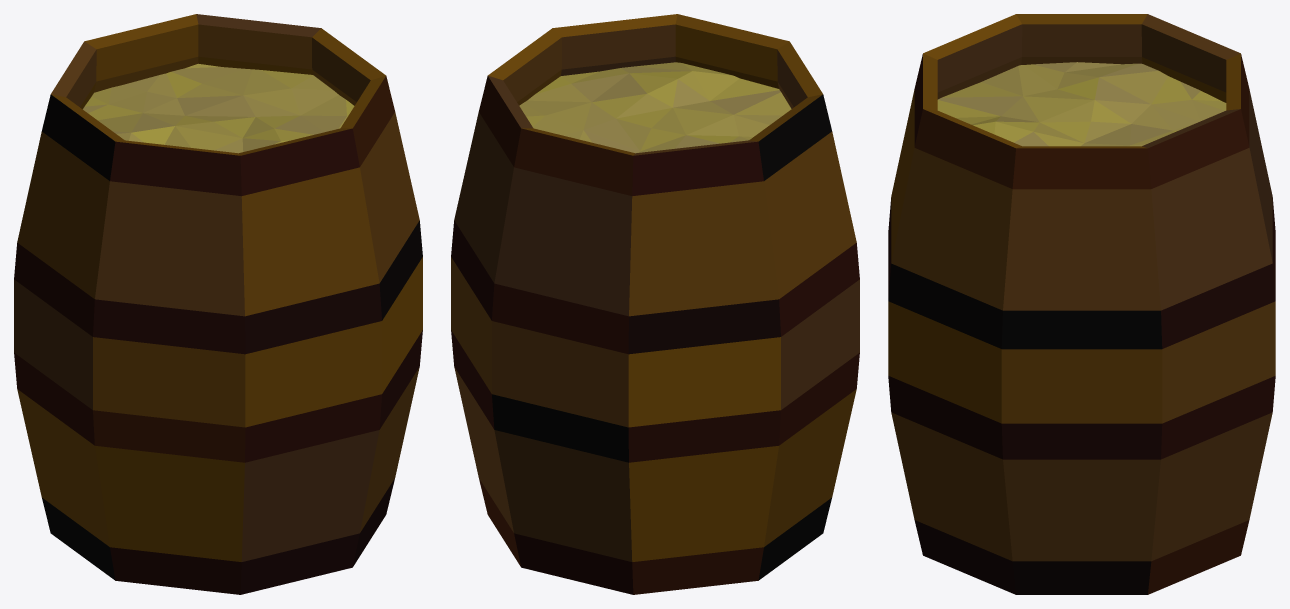
File: syn_BarrelFullMead.glb
The picture shows the model from 3 angles, left to right: view 1: azimuth 30°, elevation 25°; view 2: azimuth 150°, elevation 25°; view 3: azimuth 270°, elevation 25°; orthographic projection.
Visible parts, largest first — view 1: BarrelFullMead; view 2: BarrelFullMead; view 3: BarrelFullMead.
Part boxes in pixels (box(x1,y1,x2,y2)): BarrelFullMead: box(14, 14, 422, 594); BarrelFullMead: box(451, 14, 859, 594); BarrelFullMead: box(888, 14, 1275, 594).
Size of the model in its own units: 0.5505 by 0.7 by 0.5505.
